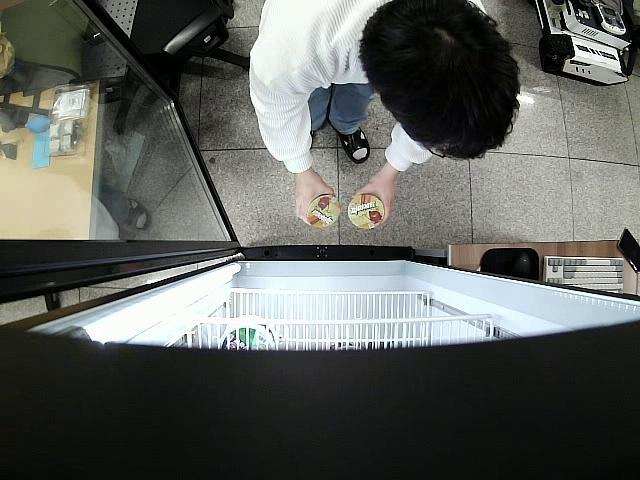04_chapagetti_S: (348, 194, 384, 229), (306, 194, 338, 230)
